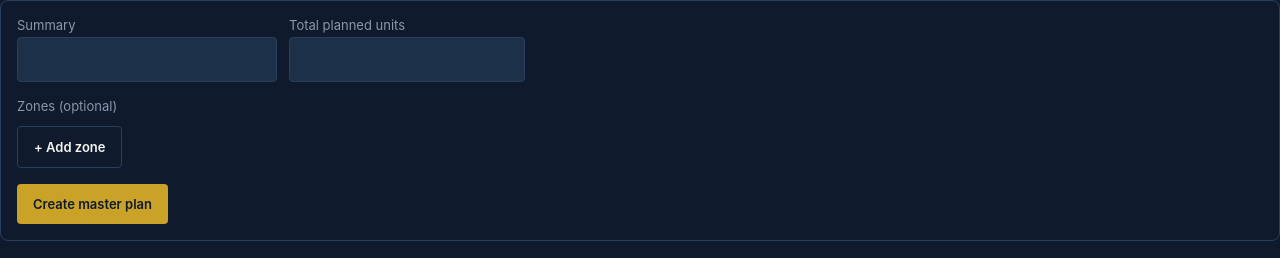
CreateMasterPlanForm — submit › falls back to a generic error message when the action fails without one
The width and height of the screenshot is (1280, 258).
Click the button "Create master plan": (92, 204) left=17, top=184, right=168, bottom=224
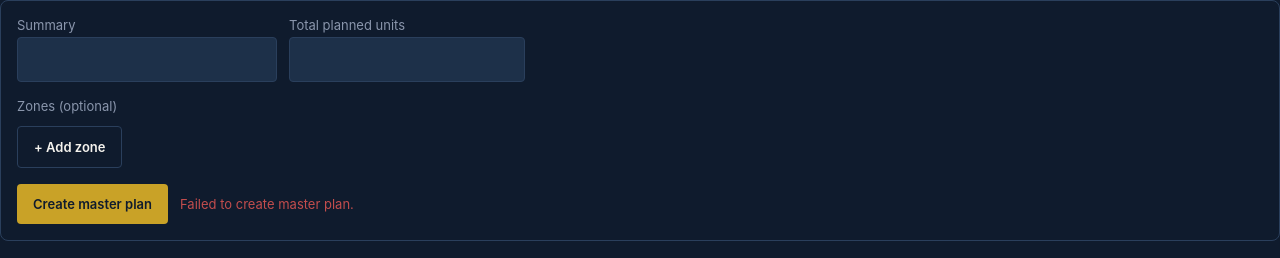
Now the text "Failed to create master plan." is shown, box left=180, top=196, right=354, bottom=212
